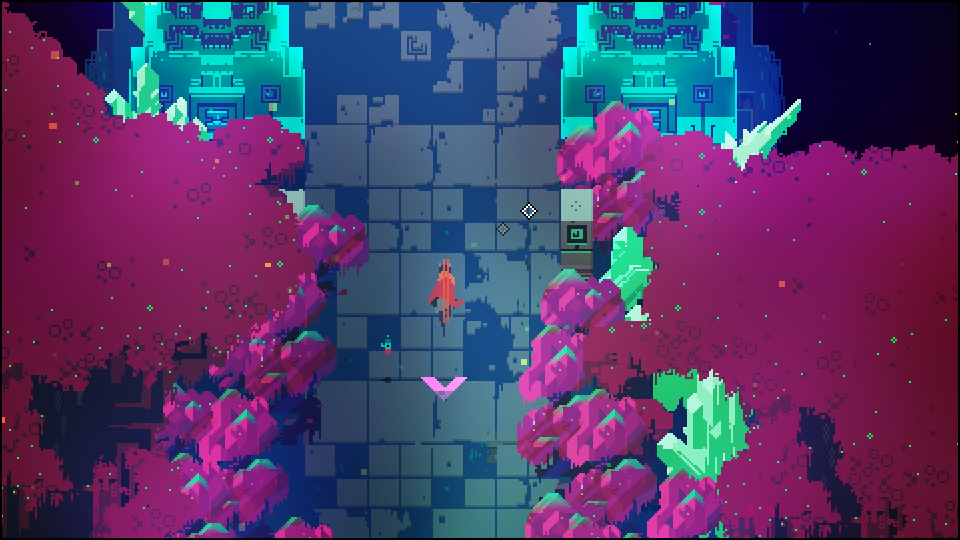player: (432, 269, 460, 320)
